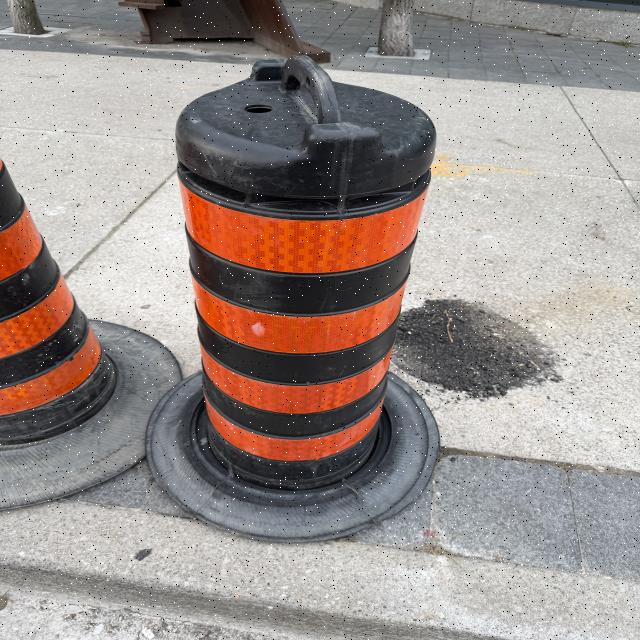Teraffic Barrel: (147, 56, 438, 541), (0, 163, 181, 509)
